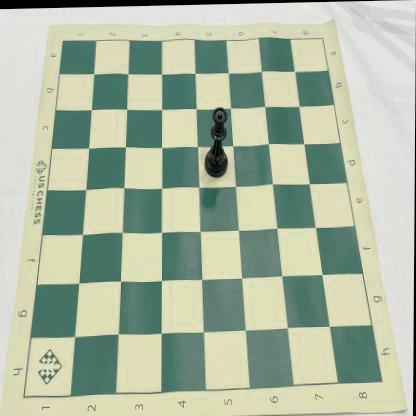black-queen: (204, 106, 229, 179)
